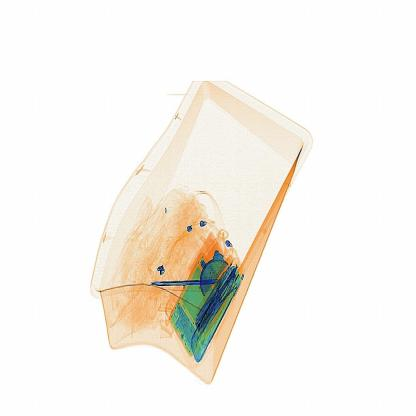pliers: (139, 267, 221, 301)
